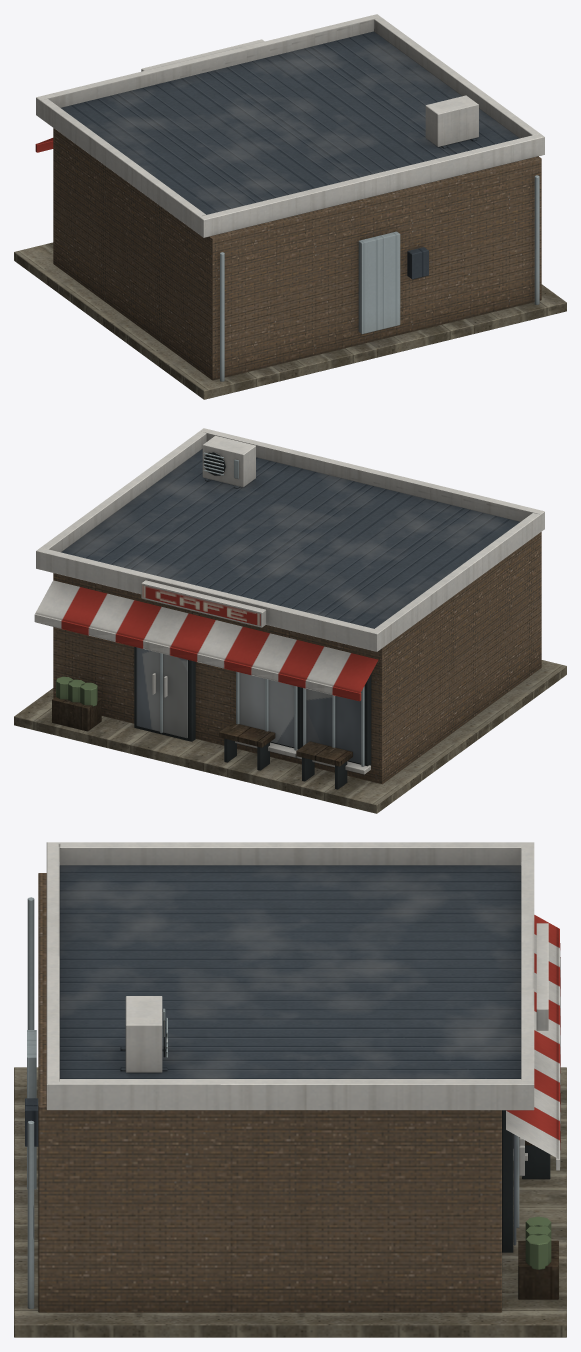
The model's file is shop_003.obj.
3 renders of one model, top to bottom at view 1: azimuth 30°, elevation 25°; view 2: azimuth 150°, elevation 25°; view 3: azimuth 270°, elevation 25°, orthographic. The views are drawn at different scales.
Visible parts, largest first — view 1: shop_003; view 2: shop_003; view 3: shop_003.
Boxes of the visible parts, bbox=[...] form: shop_003: bbox=[14, 14, 566, 399]; shop_003: bbox=[14, 428, 566, 813]; shop_003: bbox=[14, 842, 566, 1337].
Size of the model in its own units: 7.5 by 3.77 by 6.8.
1 material, 1 textured.
